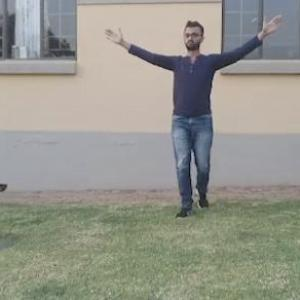takeoff: (112, 23, 277, 209)
